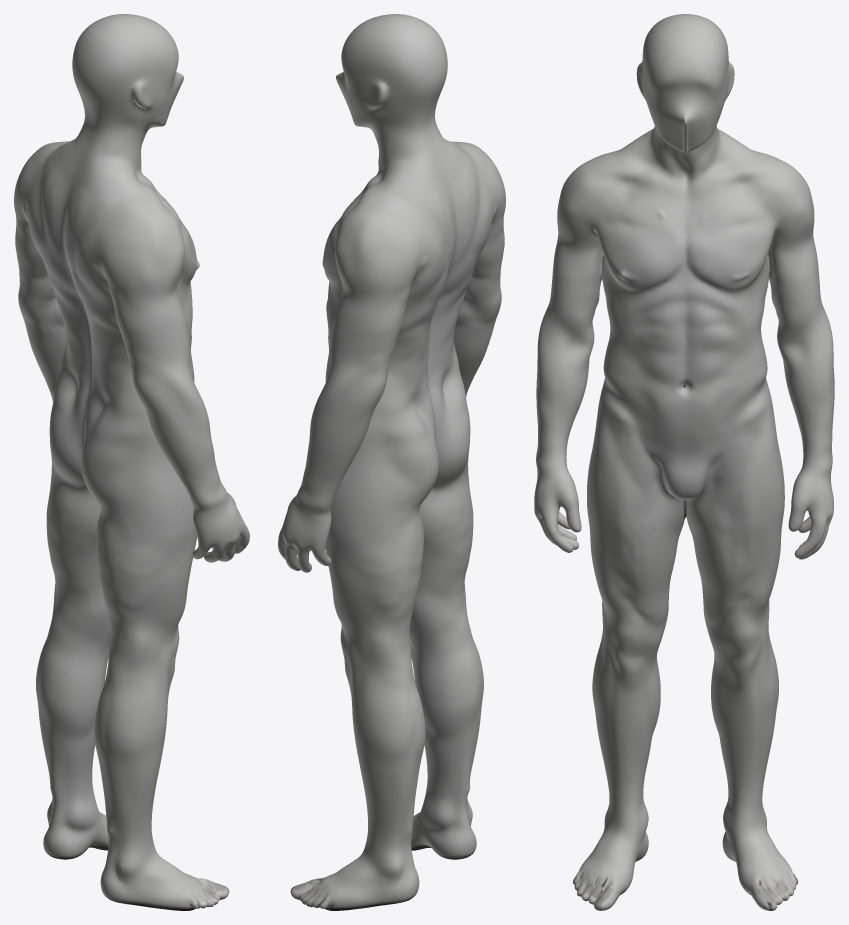
The model's file is avatar-3d.glb.
The picture shows the model from 3 angles, left to right: view 1: azimuth 30°, elevation 25°; view 2: azimuth 150°, elevation 25°; view 3: azimuth 270°, elevation 25°; orthographic projection.
Visible parts, largest first — view 1: tripo_node_087f68e4-a058-4348-981e-0bcb7aa479c6; view 2: tripo_node_087f68e4-a058-4348-981e-0bcb7aa479c6; view 3: tripo_node_087f68e4-a058-4348-981e-0bcb7aa479c6.
Boxes of the visible parts, left/top/right/bottom form: tripo_node_087f68e4-a058-4348-981e-0bcb7aa479c6: left=14, top=14, right=249, bottom=910; tripo_node_087f68e4-a058-4348-981e-0bcb7aa479c6: left=278, top=14, right=505, bottom=910; tripo_node_087f68e4-a058-4348-981e-0bcb7aa479c6: left=534, top=14, right=834, bottom=910.
Bounding box in the file's own units: 0.1579 × 1 × 0.3152.
1 material, 1 textured.
